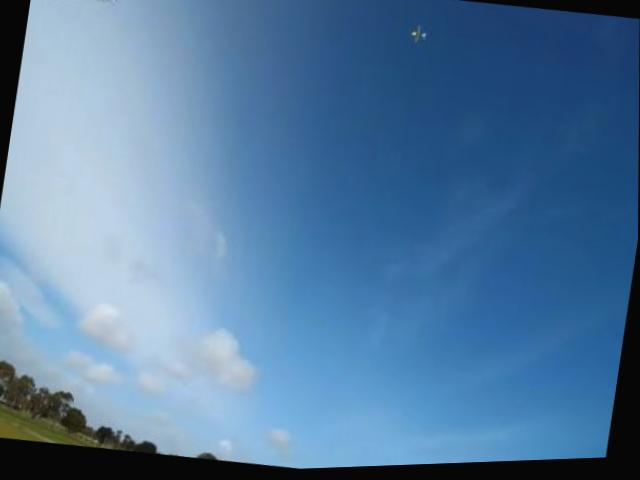uav: (403, 20, 432, 52)
